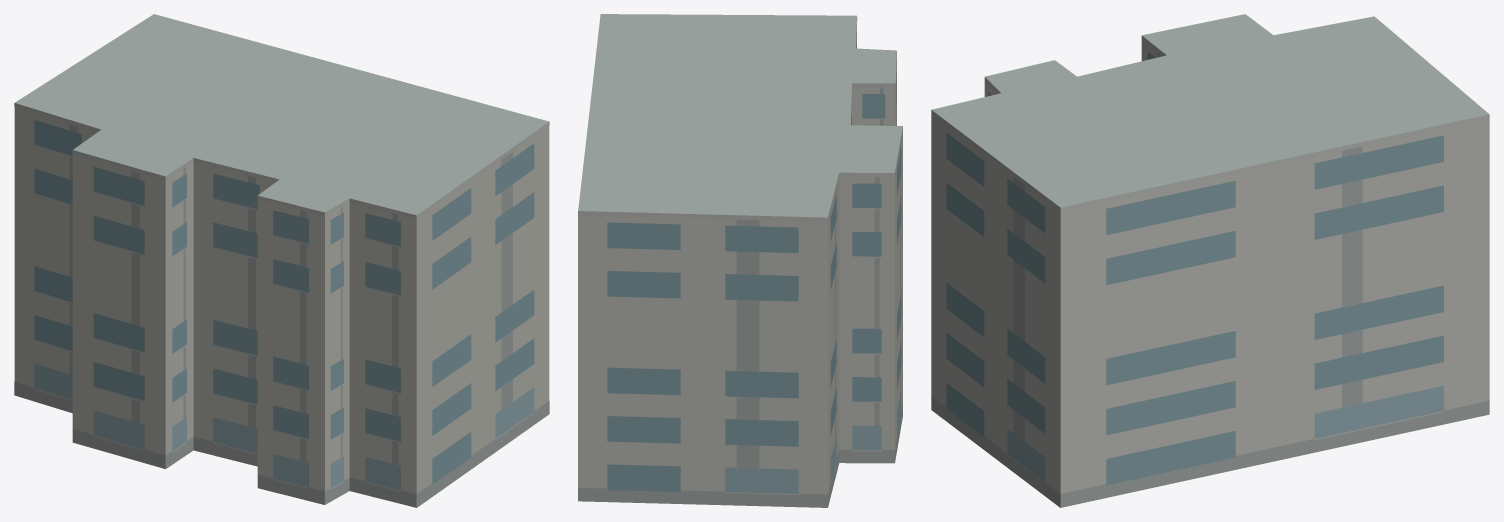
Rendered from survey-upis-32685822.glb.
3 renders of one model, left to right at view 1: azimuth 30°, elevation 25°; view 2: azimuth 150°, elevation 25°; view 3: azimuth 270°, elevation 25°, orthographic. The views are drawn at different scales.
Parts seen in each view (by area): view 1: survey-upis-32685822.tmp; view 2: survey-upis-32685822.tmp; view 3: survey-upis-32685822.tmp.
Boxes of the visible parts, box(x1,y1,x2,y2) form: survey-upis-32685822.tmp: box(14, 14, 549, 507); survey-upis-32685822.tmp: box(578, 14, 902, 507); survey-upis-32685822.tmp: box(931, 14, 1489, 507).
Size of the model in its own units: 23.38 by 16.9 by 28.49.
